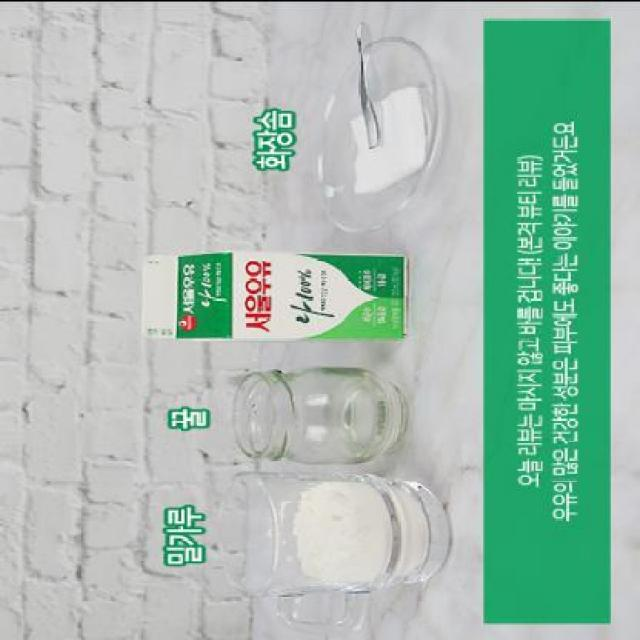non_white_jug: (132, 238, 418, 347)
